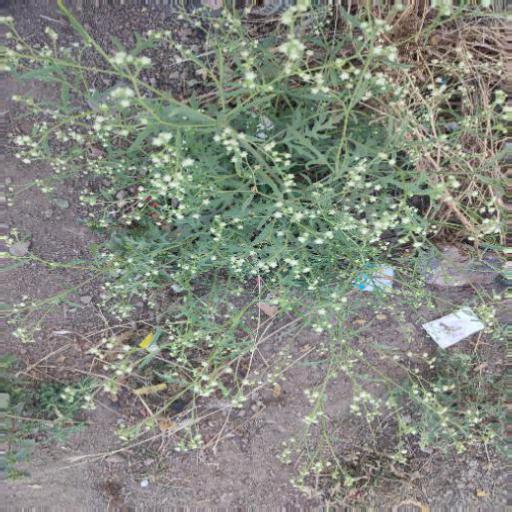weed: (36, 1, 503, 413)
